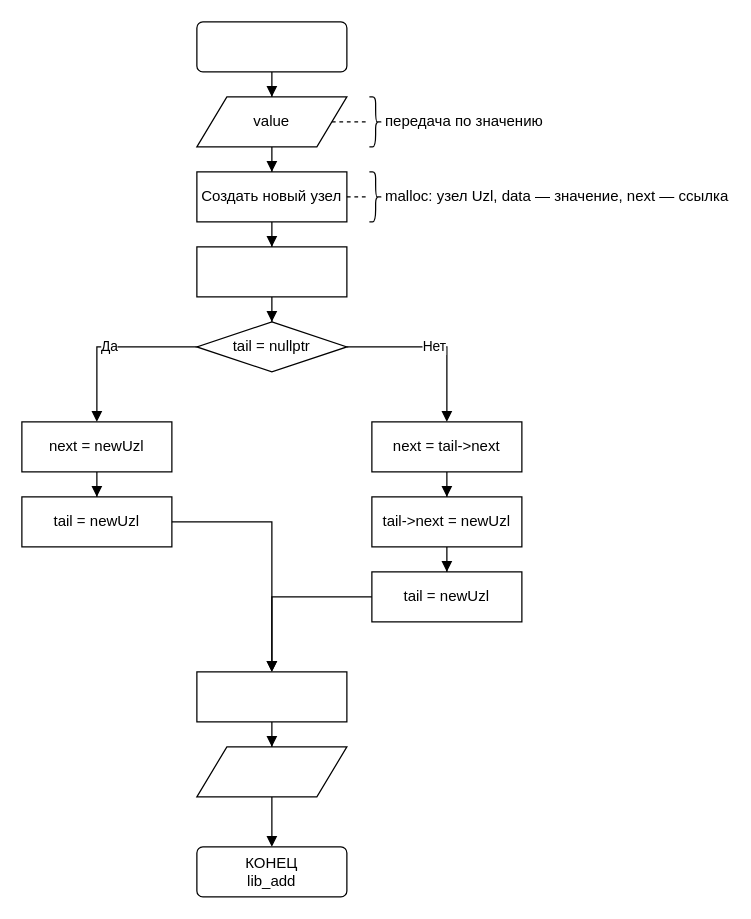
Image size: 751x919. Some labels were removed from this diagram. Each missing label, with the box of its shape:
data = value: (196, 246, 347, 297)
lib_add НАЧАЛО: (196, 21, 347, 72)
size = size + 1: (196, 671, 347, 722)
ВОЗВРАТ 1: (196, 746, 347, 797)
